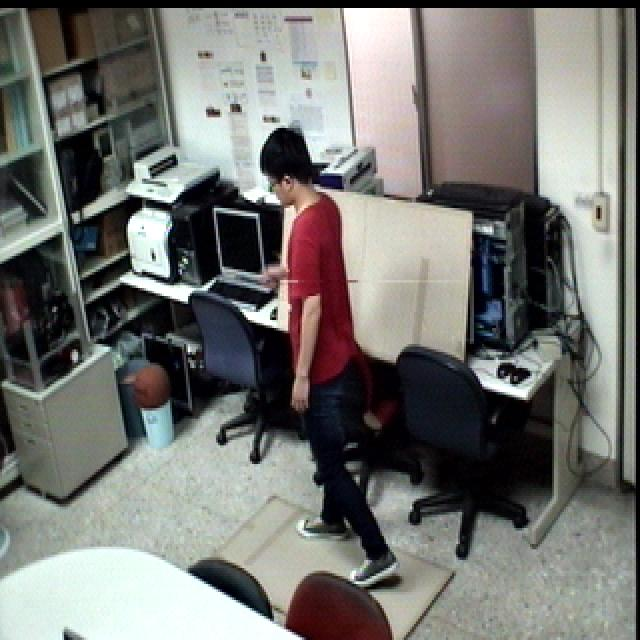stand: (254, 120, 405, 589)
